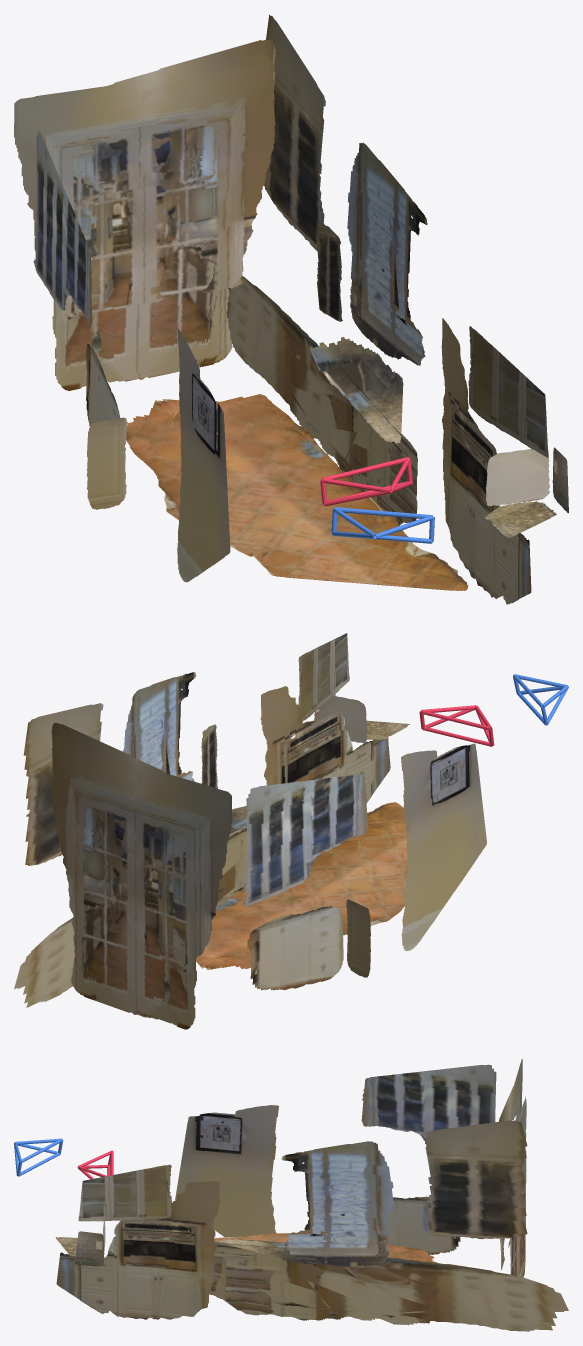
File: pred.glb
The picture shows the model from 3 angles, top to bottom: view 1: azimuth 30°, elevation 25°; view 2: azimuth 150°, elevation 25°; view 3: azimuth 270°, elevation 25°; orthographic projection. The views are drawn at different scales.
Visible parts, largest first — view 1: Node; view 2: Node; view 3: Node.
Boxes of the visible parts, bbox=[...] form: Node: bbox=[14, 15, 568, 604]; Node: bbox=[14, 633, 568, 1029]; Node: bbox=[14, 1059, 568, 1331].
Size of the model in its own units: 2.85 by 3.19 by 6.88.
Materials: 28 (26 with a texture image).
